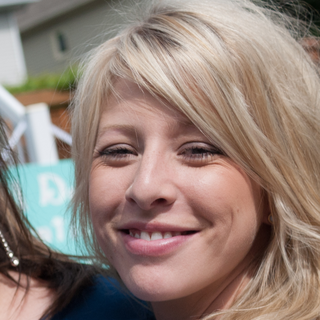eye: (171, 138, 230, 169), (94, 140, 143, 165)
